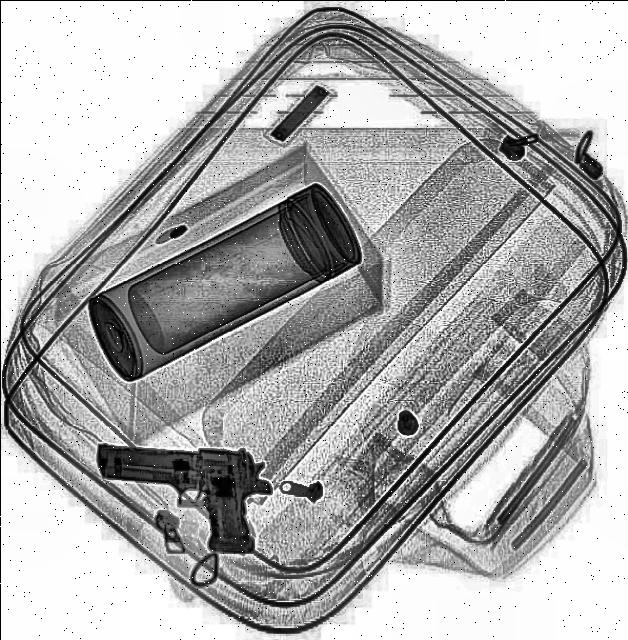Gun: (86, 438, 274, 558)
